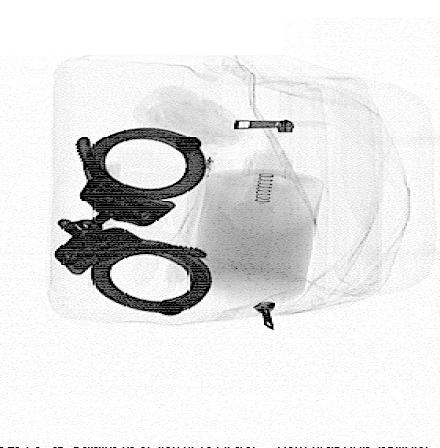HandCuffs: (50, 125, 216, 318)
